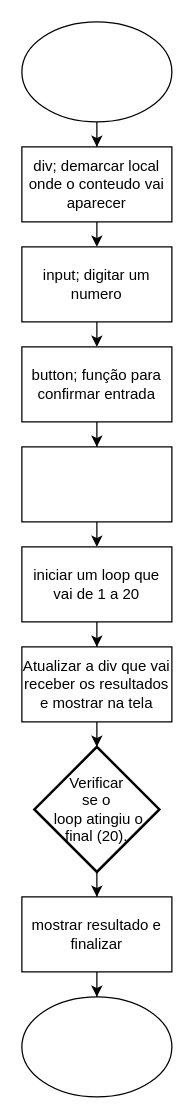
The diagram is 194 pixels wide and 1119 high, and some of its shapes have lost their labels. Each missing label, with the centre of its shape:
fim: the point at 96,1046
inicio: the point at 96,71
Obter o valor digitado pelo usuário: the point at 96,484
